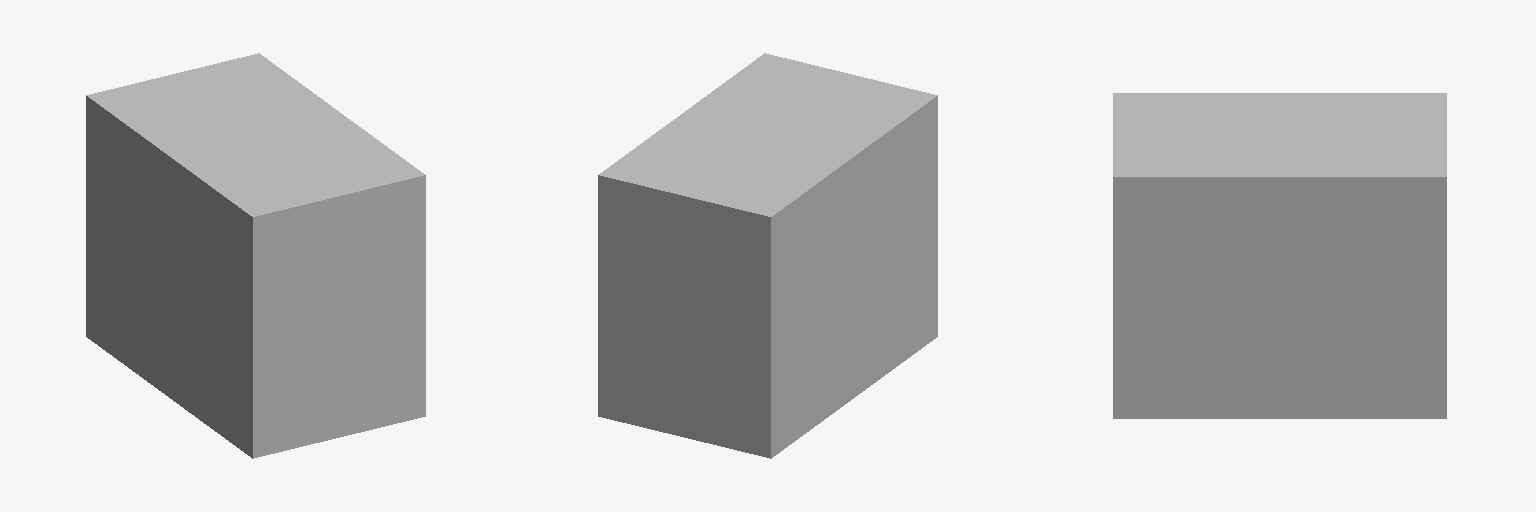
File: Scholar Head.obj
3 renders of one model, left to right at view 1: azimuth 30°, elevation 25°; view 2: azimuth 150°, elevation 25°; view 3: azimuth 270°, elevation 25°, orthographic.
Visible parts, largest first — view 1: ObjObject.001; view 2: ObjObject.001; view 3: ObjObject.001.
Boxes of the visible parts, x1,y1,x2,y2 form: ObjObject.001: [86, 53, 425, 458]; ObjObject.001: [598, 53, 937, 458]; ObjObject.001: [1113, 93, 1446, 418].
Size of the model in its own units: 2.4 by 3.2 by 4.